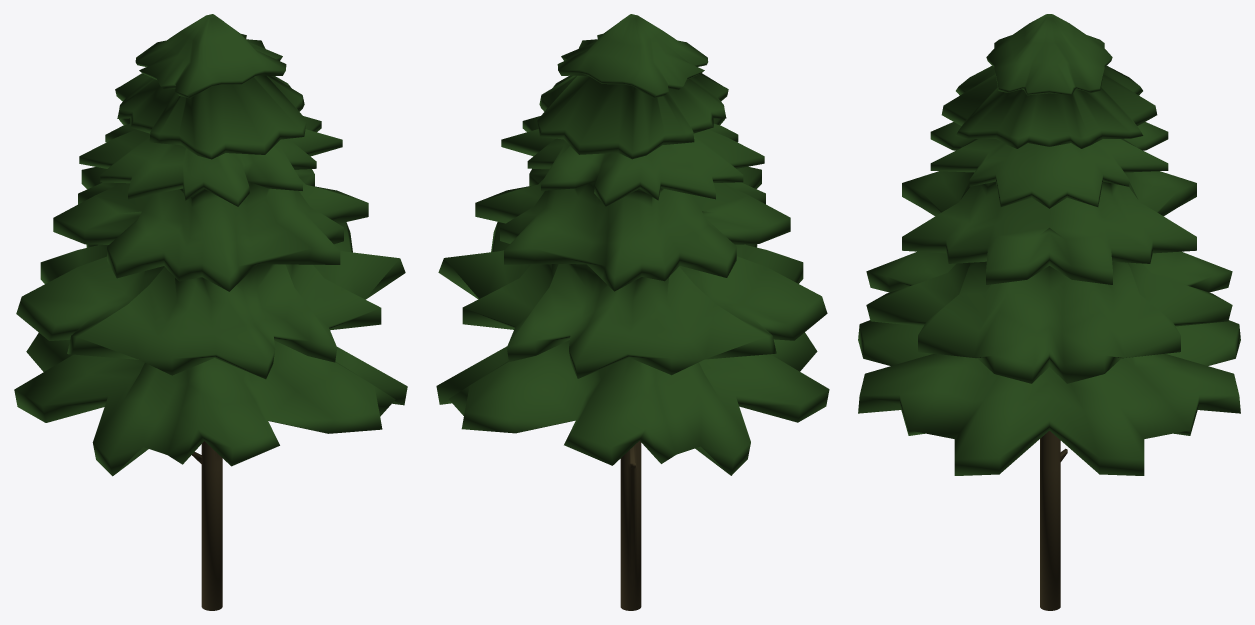
File: puu03.fbx
3 views of the same model, side by side, from view 1: azimuth 30°, elevation 25°; view 2: azimuth 150°, elevation 25°; view 3: azimuth 270°, elevation 25° (orthographic).
Parts seen in each view (by area): view 1: Cube.003, puu runko1.001; view 2: Cube.003, puu runko1.001; view 3: Cube.003, puu runko1.001.
Boxes of the visible parts, bbox=[...] form: Cube.003: bbox=[14, 14, 407, 476]; puu runko1.001: bbox=[192, 441, 222, 610]; Cube.003: bbox=[436, 14, 829, 475]; puu runko1.001: bbox=[620, 440, 641, 610]; Cube.003: bbox=[858, 14, 1240, 475]; puu runko1.001: bbox=[1040, 431, 1067, 610].
Size of the model in its own units: 1516 by 2563 by 1508.
